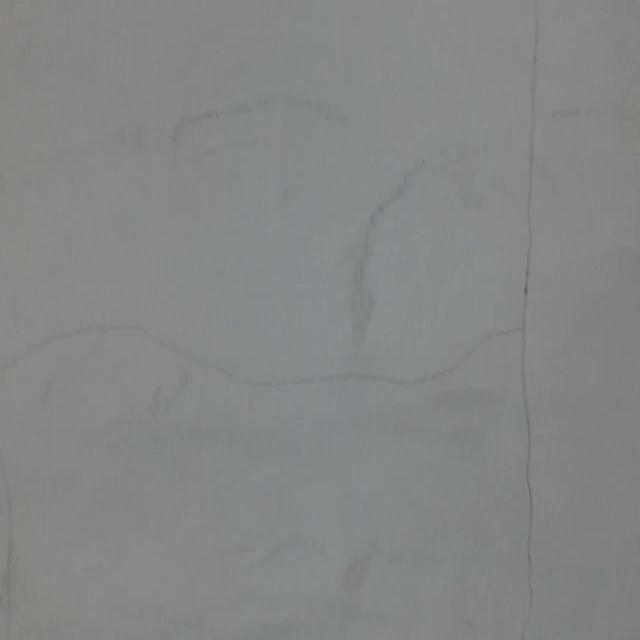Crack: (0, 0, 166, 640), (495, 2, 556, 640), (167, 318, 494, 403)
